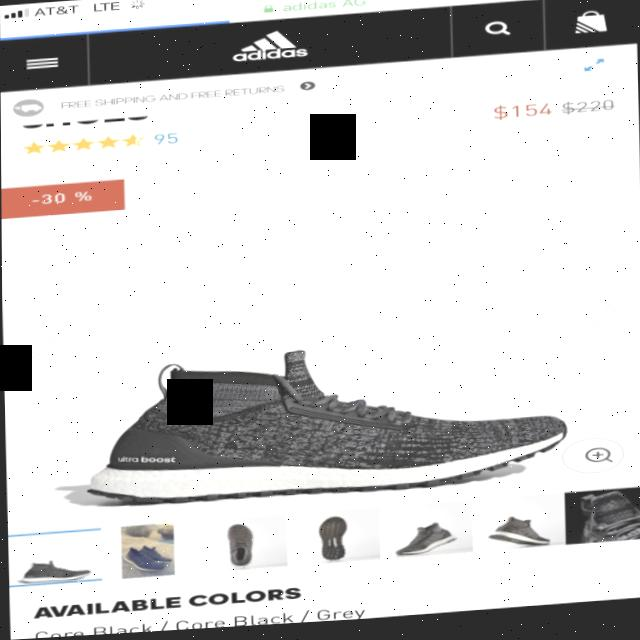shoes: (36, 314, 580, 525)
